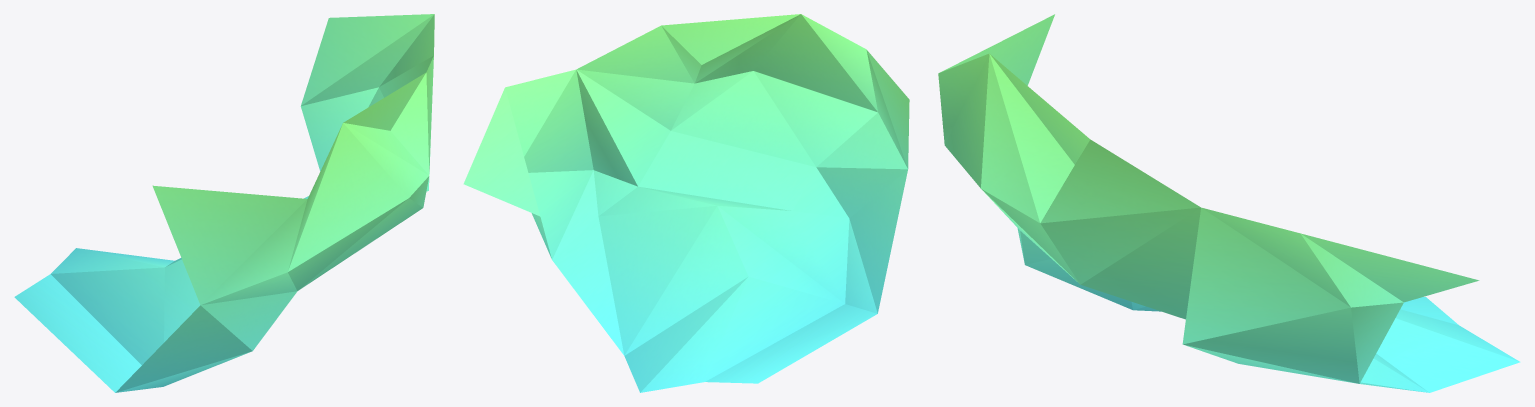
Rendered from Brain A.gltf.
3 views of the same model, side by side, from view 1: azimuth 30°, elevation 25°; view 2: azimuth 150°, elevation 25°; view 3: azimuth 270°, elevation 25° (orthographic). The views are drawn at different scales.
Visible parts, largest first — view 1: BrainSolid Light A; view 2: BrainSolid Light A; view 3: BrainSolid Light A.
Part boxes in pixels (x1,y1,x2,y2): BrainSolid Light A: (14, 14, 434, 392); BrainSolid Light A: (463, 14, 909, 392); BrainSolid Light A: (938, 14, 1520, 392).
Size of the model in its own units: 1.83 by 1.28 by 2.07.
1 material, 1 textured.
